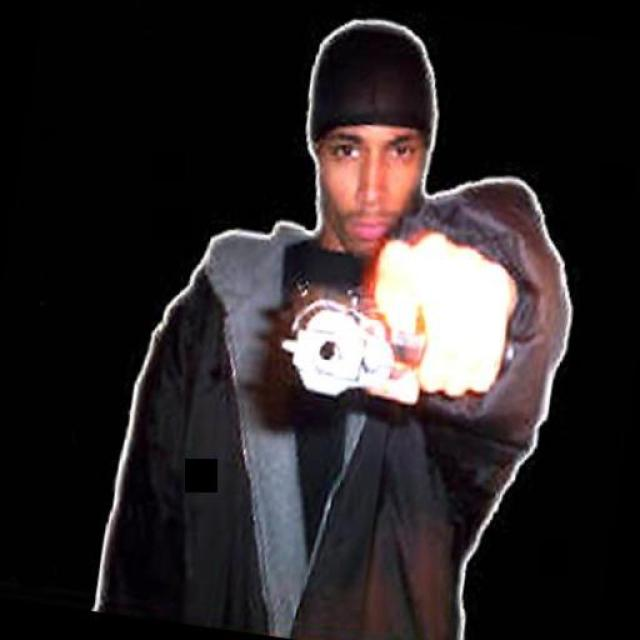gun: (264, 241, 441, 425)
